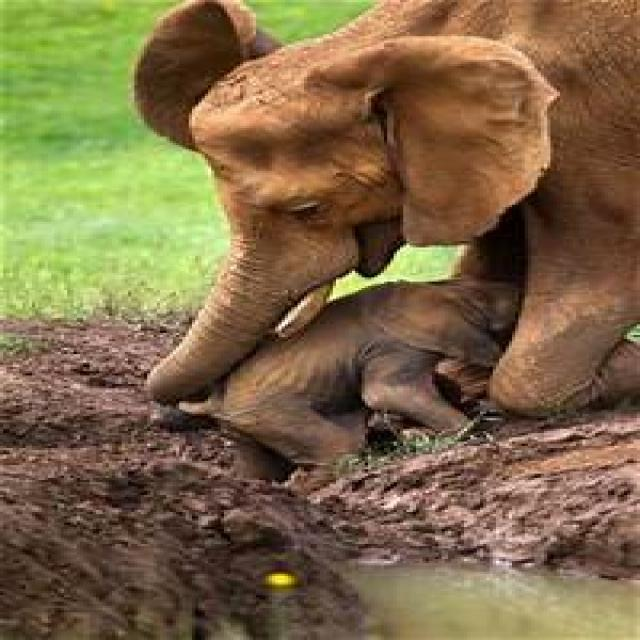elephant: (131, 0, 640, 429)
